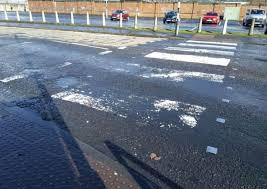faded_road_lines: (36, 64, 229, 152), (0, 45, 114, 86)
